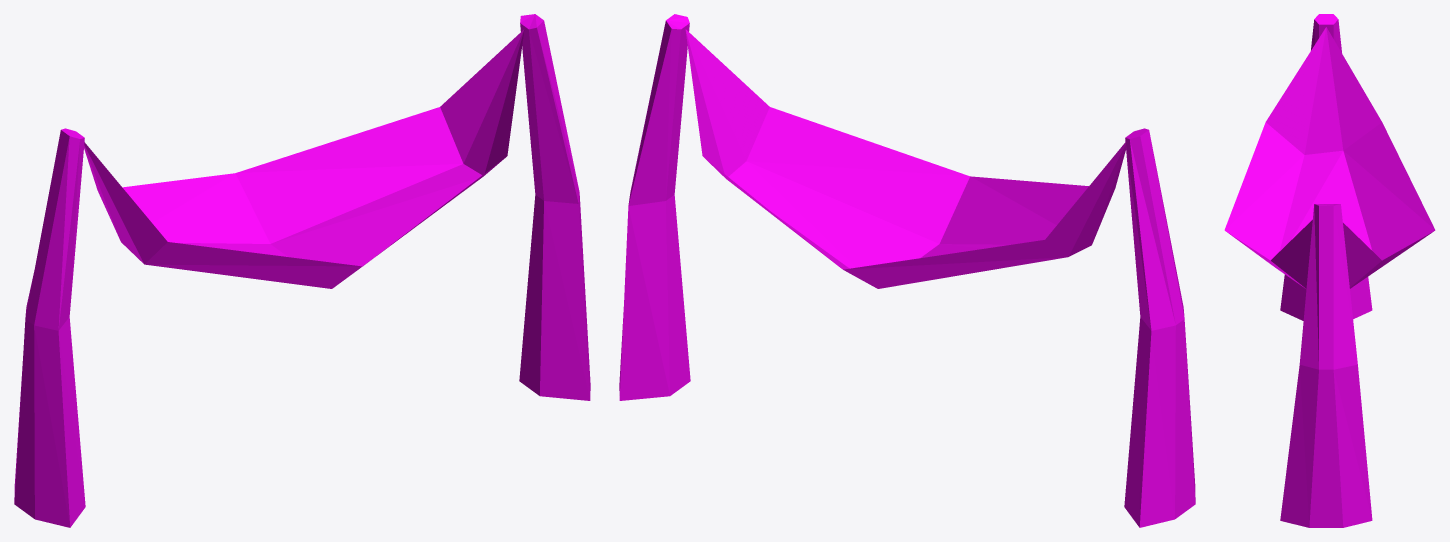
Rendered from gnomehamek.obj.
3 views of the same model, side by side, from view 1: azimuth 30°, elevation 25°; view 2: azimuth 150°, elevation 25°; view 3: azimuth 270°, elevation 25° (orthographic). The views are drawn at different scales.
Visible parts, largest first — view 1: gnomehamek_back; view 2: gnomehamek_back; view 3: gnomehamek_back.
Boxes of the visible parts, left/top/right/bottom form: gnomehamek_back: left=14, top=14, right=590, bottom=527; gnomehamek_back: left=619, top=14, right=1195, bottom=527; gnomehamek_back: left=1224, top=14, right=1435, bottom=527.
Size of the model in its own units: 2.19 by 1.39 by 0.87.
